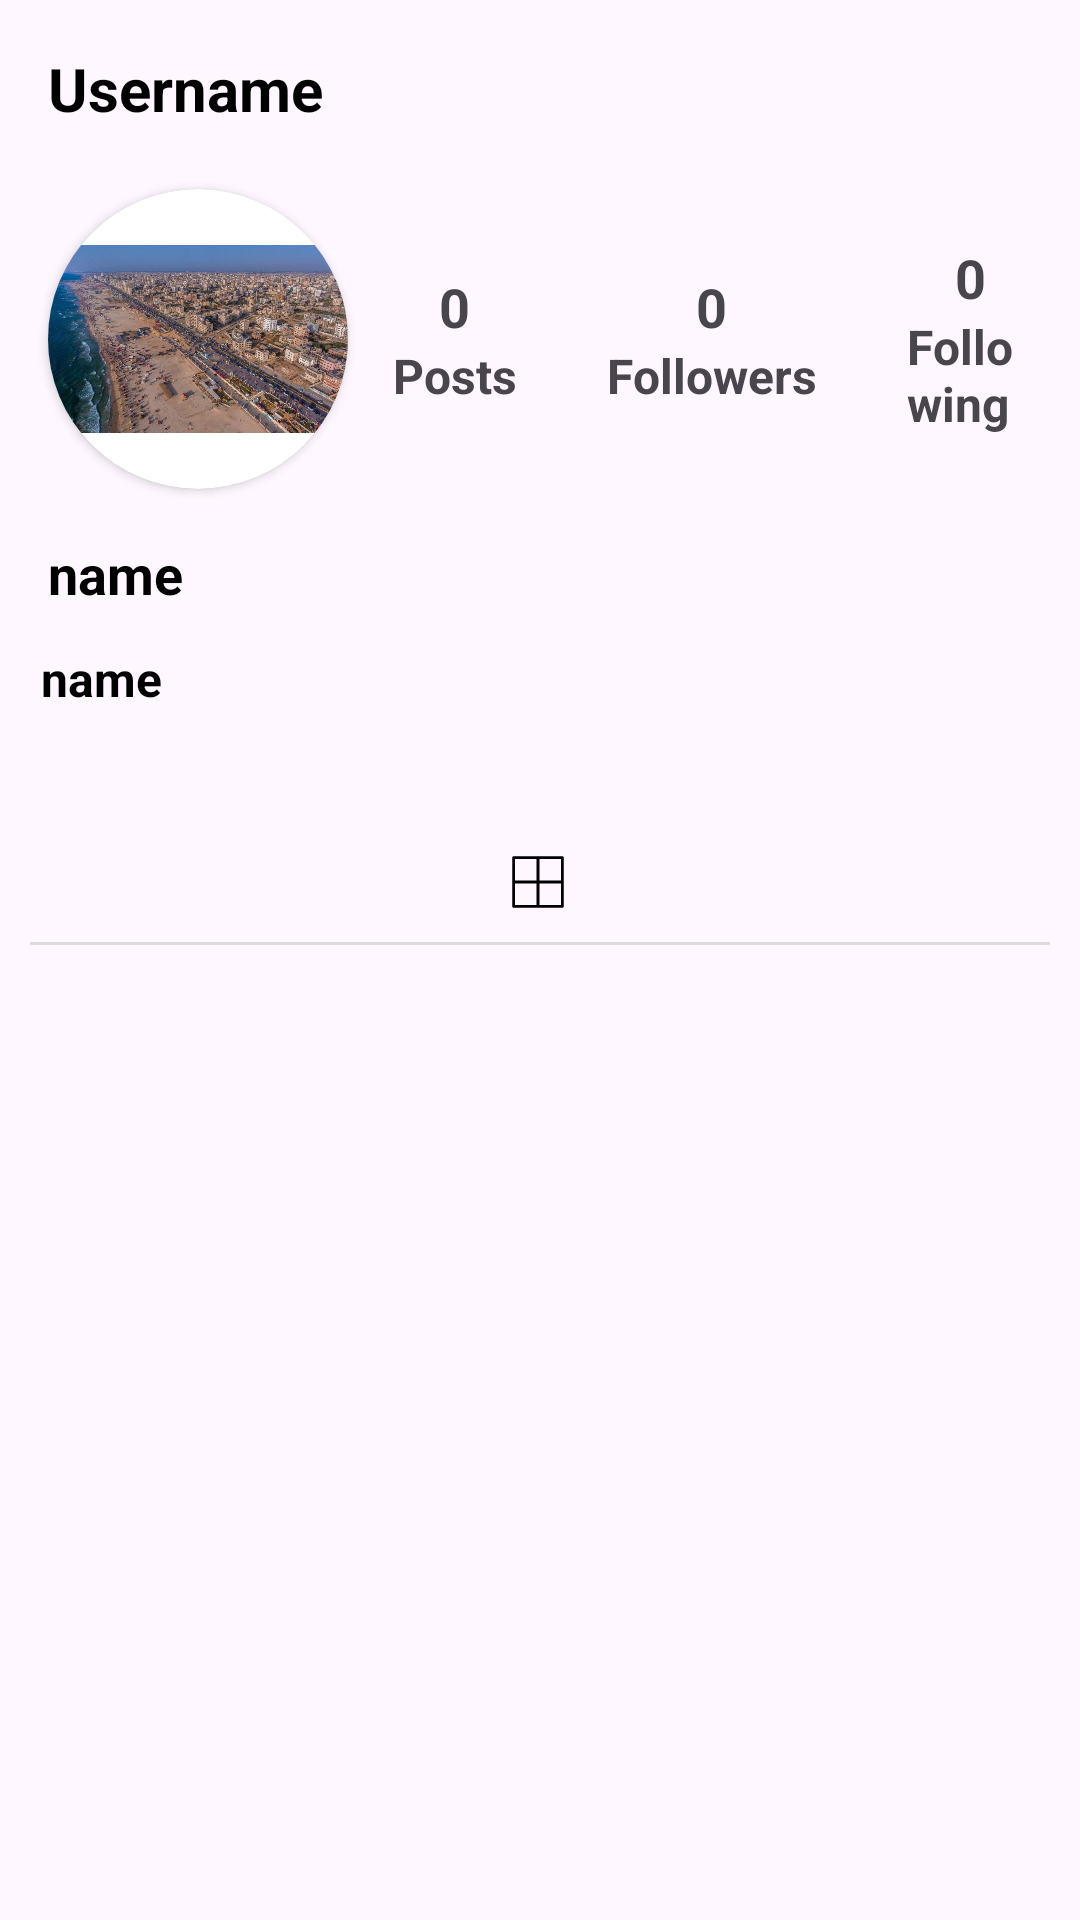

Icon click points for this 1080px x 1920px phone screenshot, format (x,y):
border all: (538,882)
gaza: (198,367)
